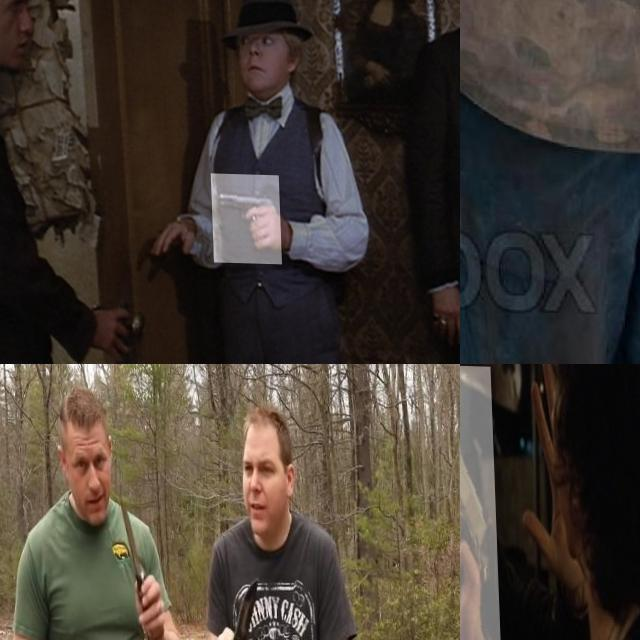-: (460, 148, 539, 364), (111, 468, 164, 626)
gun-knife-thesis - v11 Yolov5 augmented: (460, 364, 506, 640), (208, 172, 279, 262)
